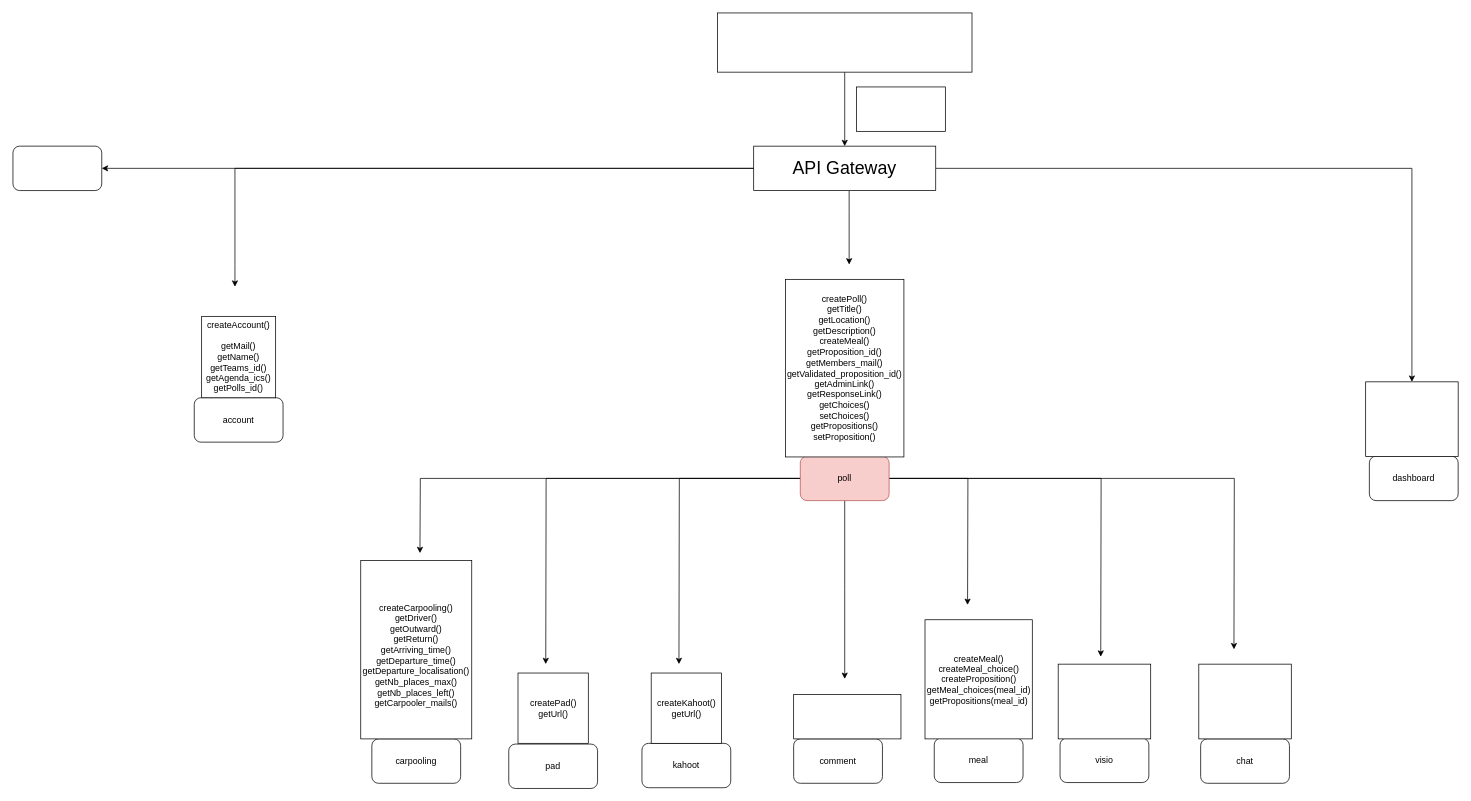
Some shapes in this 1471 by 801 pixel diagram are drawn without their labels. Each missing label, with the box of its shape:
authentification: (12, 145, 102, 191)
createChat(poll_id) getUrl(): (1198, 663, 1291, 739)
createComment(...) getAuthor_mail(poll_id) getContent(poll_id) getDate(poll_id): (793, 694, 901, 739)
createVisio(poll_id, url) getUrl(): (1057, 663, 1151, 739)
getAllPolls() getPoll_id(): (1365, 381, 1458, 457)
Let's Encrypt: (856, 86, 945, 131)
UI: (717, 12, 972, 72)
